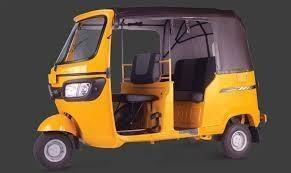keke: (34, 3, 269, 171)
